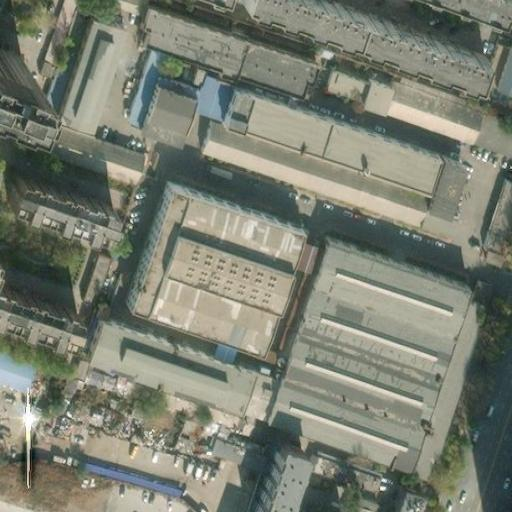building: (256, 226, 464, 461), (193, 111, 451, 230), (120, 175, 292, 342), (217, 83, 462, 195), (243, 0, 482, 81), (80, 304, 272, 403), (405, 282, 493, 478), (131, 7, 313, 97), (46, 32, 112, 141), (25, 23, 80, 139), (37, 130, 134, 185), (379, 79, 473, 134), (67, 452, 167, 491), (24, 0, 69, 85), (244, 440, 292, 512), (131, 74, 185, 138), (318, 65, 386, 112), (118, 45, 156, 116), (68, 0, 137, 26), (189, 74, 228, 115), (0, 348, 32, 390), (372, 476, 408, 512), (278, 234, 313, 270), (489, 47, 512, 97), (76, 248, 102, 292), (0, 44, 17, 82), (343, 490, 368, 512)
